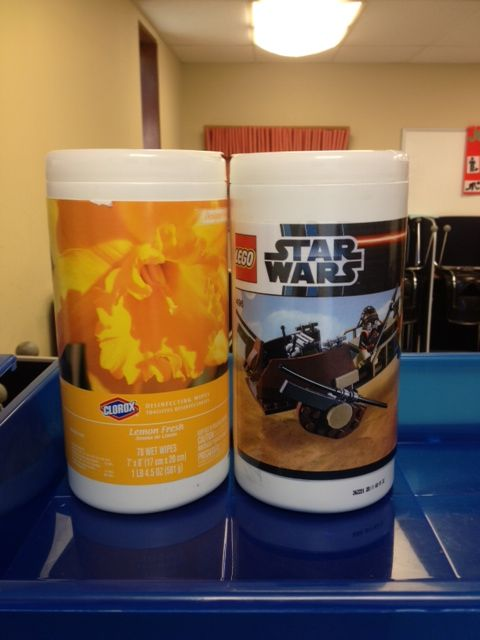Wipes: (41, 142, 231, 520), (227, 141, 415, 518)
